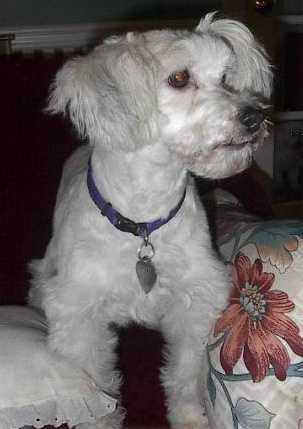dog: (0, 14, 303, 417)
